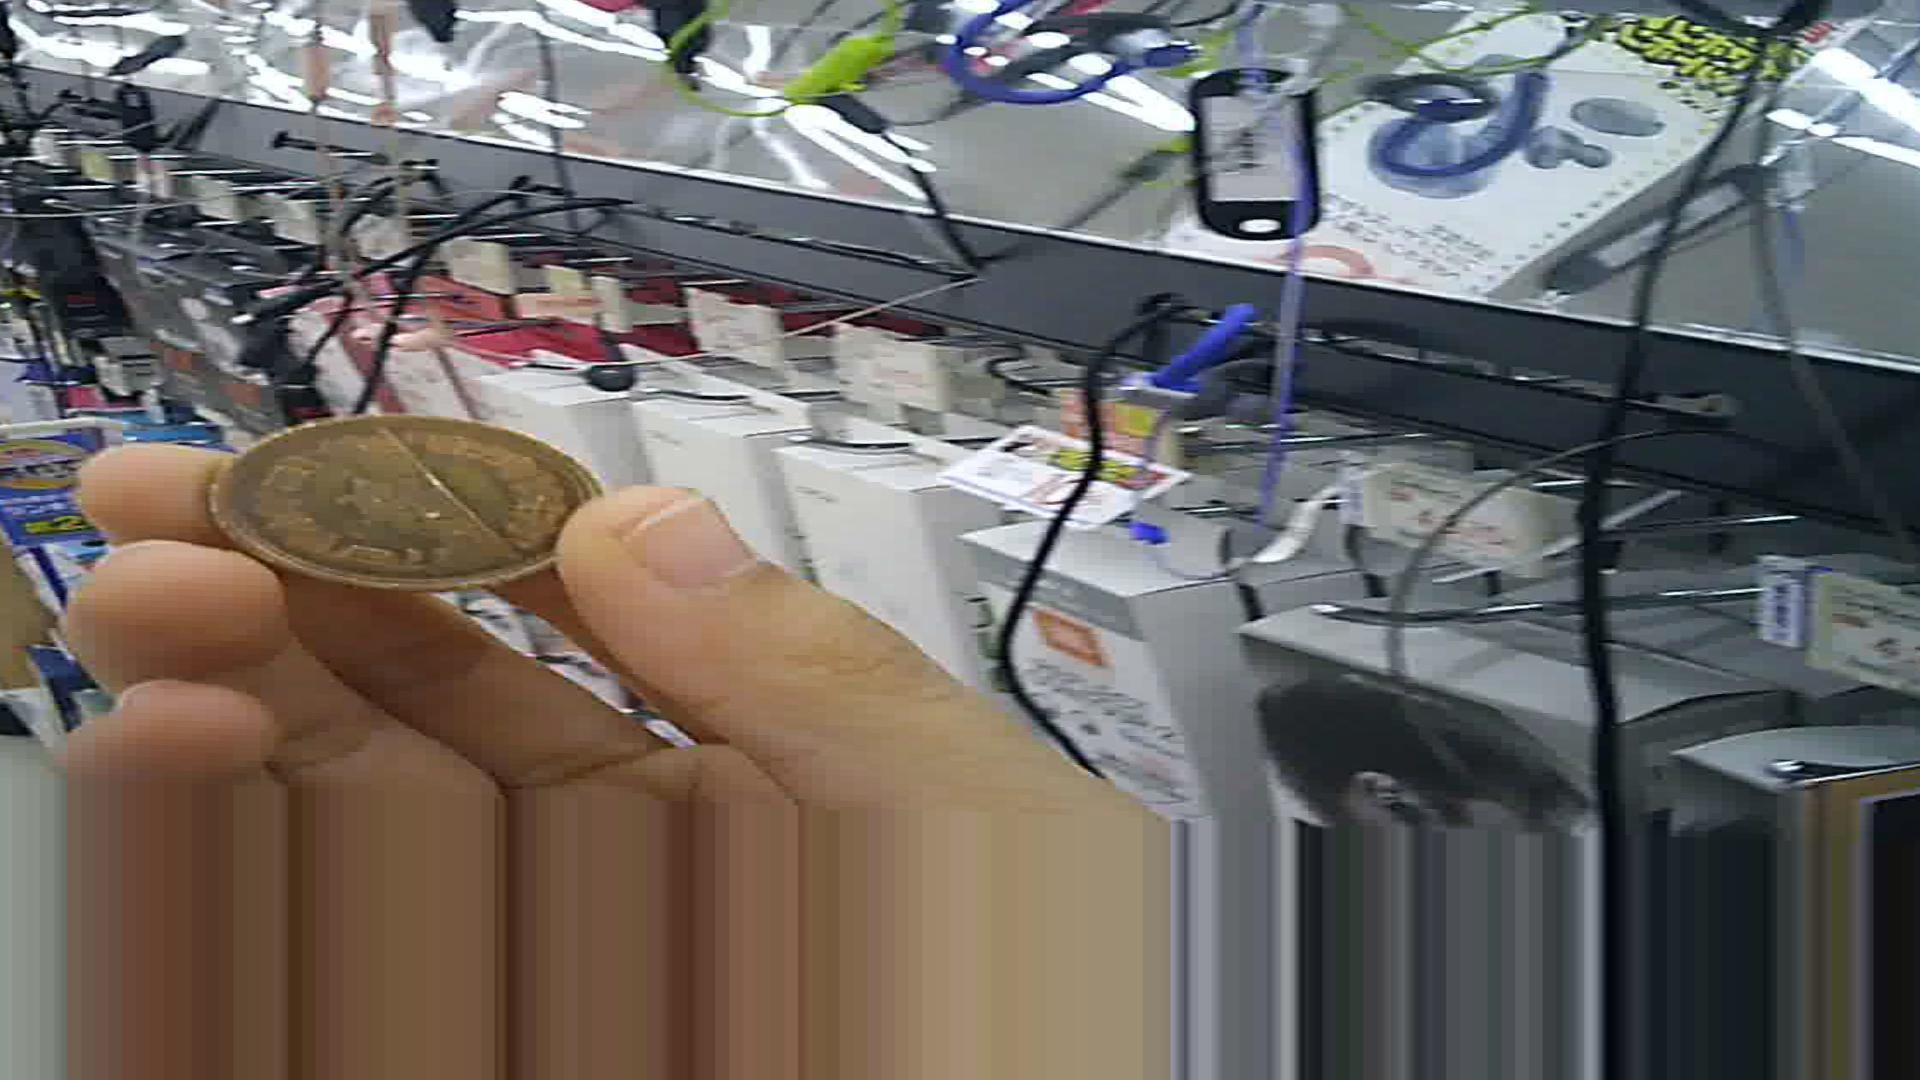10 Yen: (214, 404, 578, 589)
